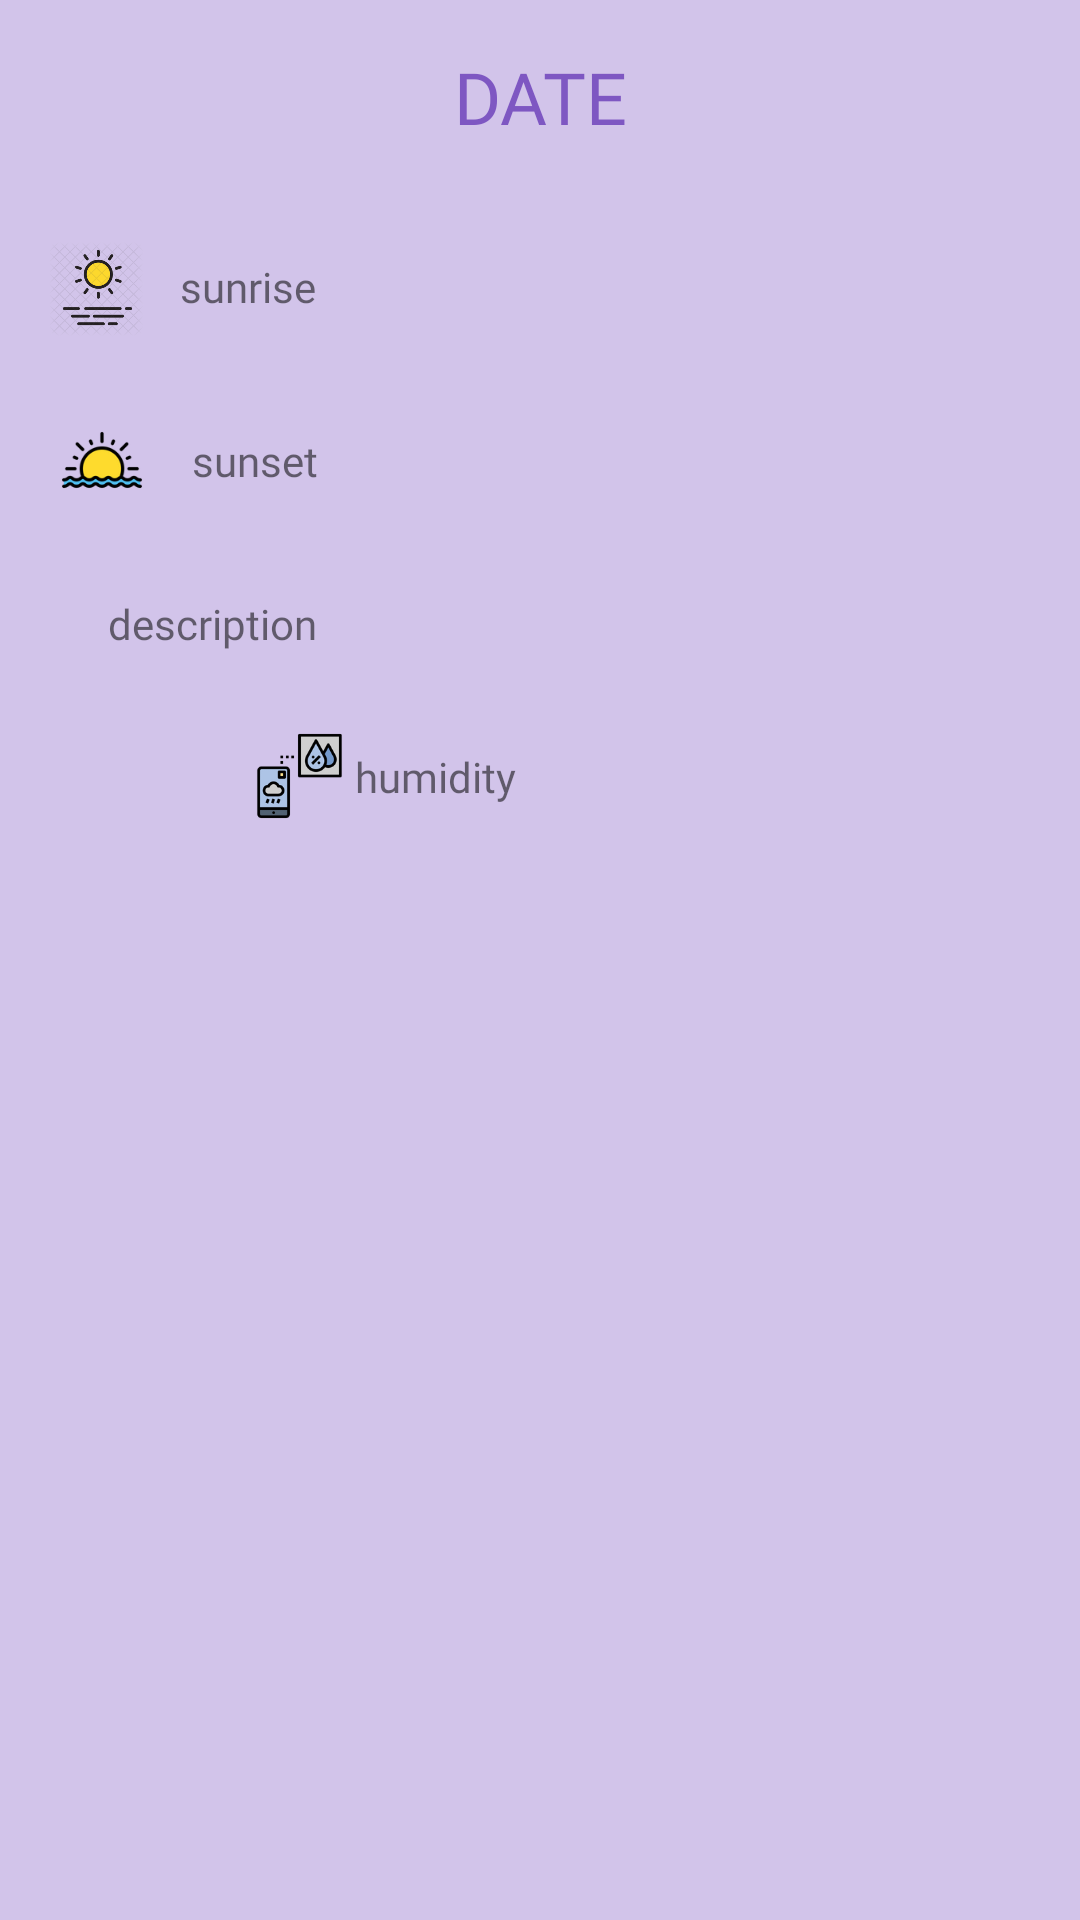

Icon bounding boxes for this 1080x1920 phone screenshot, format (x1, y1, x2, y2):
hum: (257, 734, 342, 818)
